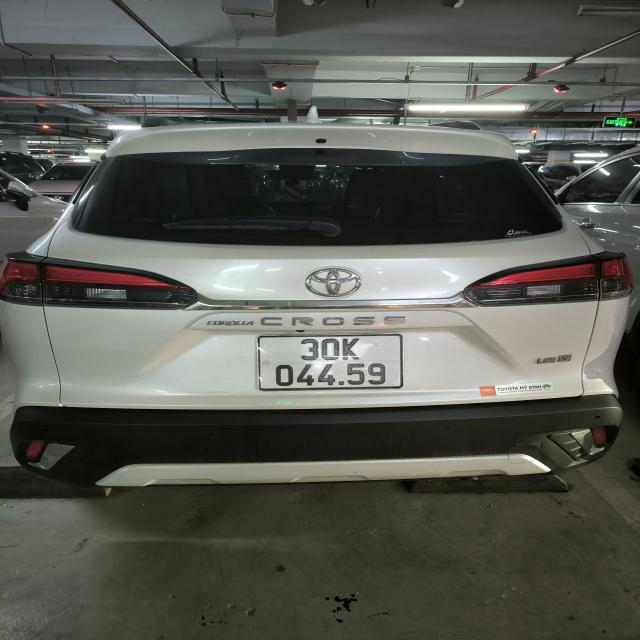license: (256, 333, 403, 390)
